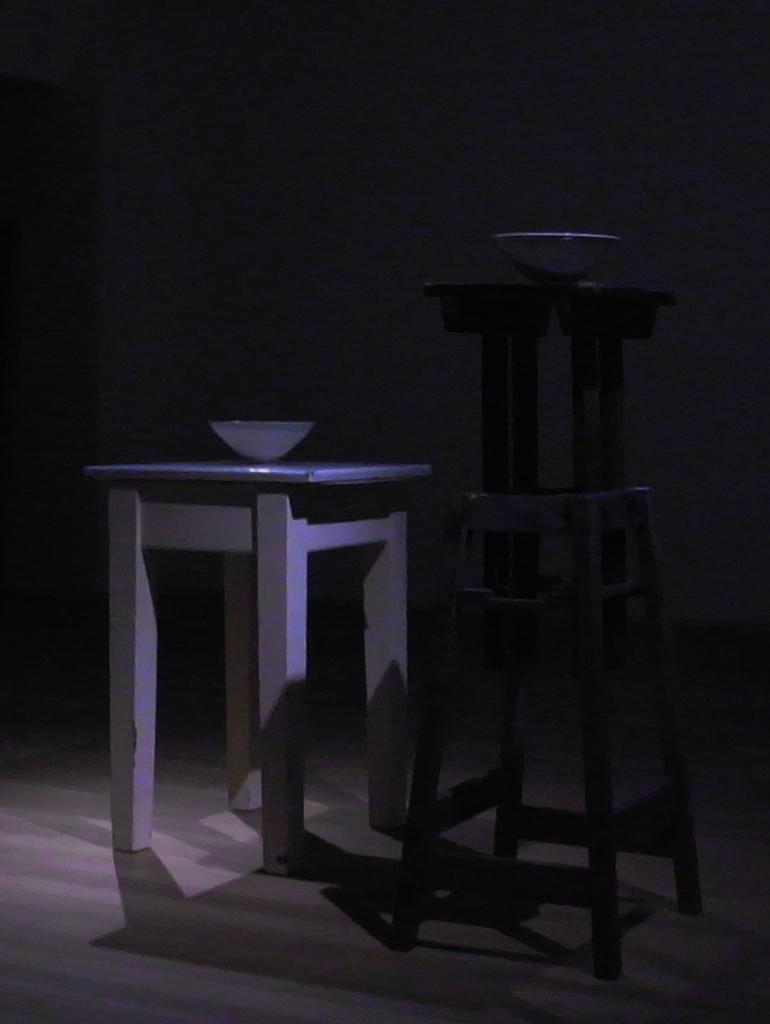Chair: (445, 238, 720, 1022)
